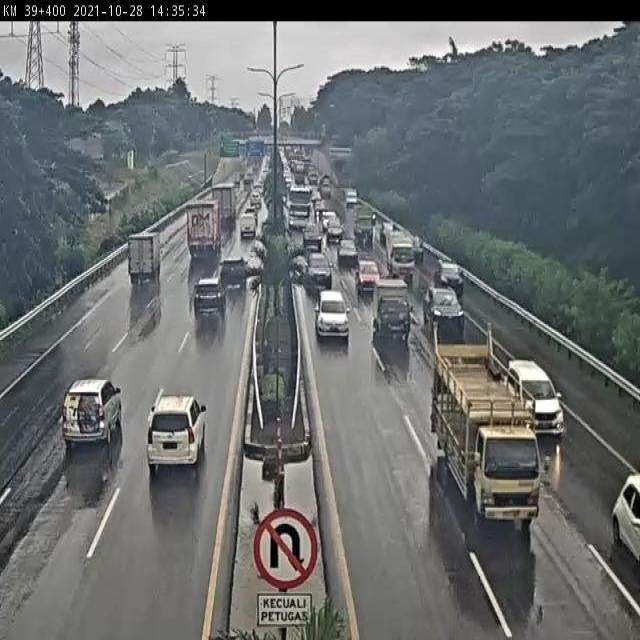Car: (146, 390, 207, 470), (507, 360, 566, 441), (62, 377, 123, 449), (610, 473, 640, 563), (423, 285, 464, 341), (192, 274, 226, 326), (316, 290, 350, 341), (304, 254, 332, 292), (219, 256, 248, 291), (435, 260, 463, 294), (356, 258, 380, 296), (337, 238, 359, 268), (302, 222, 324, 252), (326, 217, 344, 244), (293, 162, 306, 186), (344, 188, 358, 208), (244, 206, 258, 226), (250, 190, 262, 210)
Truck: (428, 319, 551, 532), (372, 280, 414, 345), (184, 199, 224, 259), (126, 233, 162, 286), (384, 230, 416, 281), (285, 184, 315, 232), (211, 181, 237, 223), (353, 207, 375, 248), (318, 172, 334, 198), (232, 171, 241, 187)
Van: (239, 212, 256, 238)
